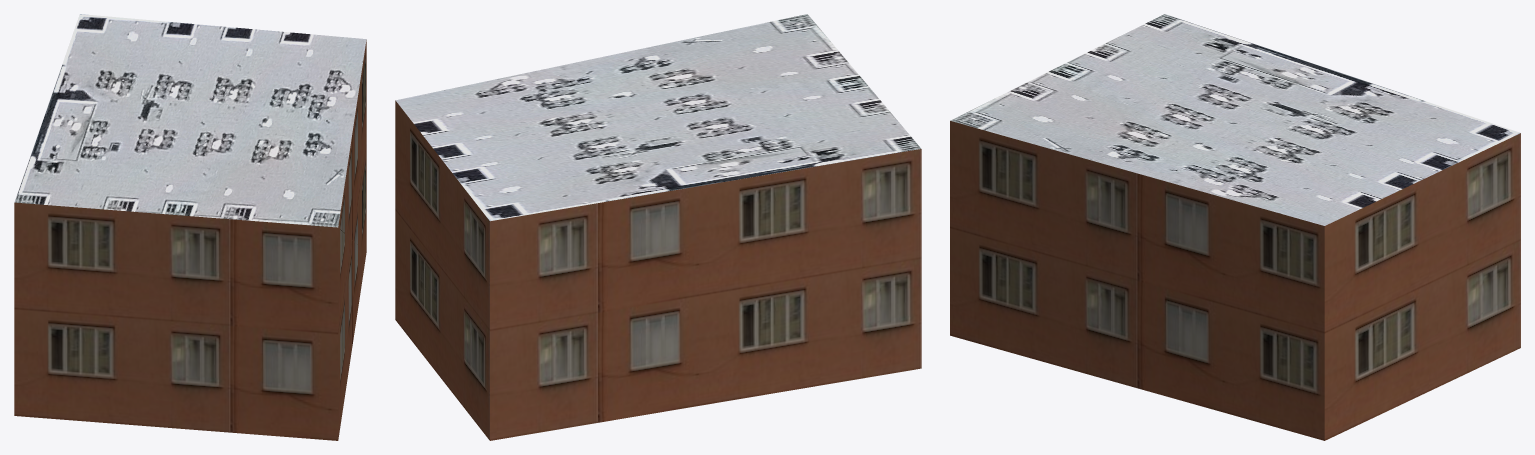
Rendered from ResTex__960.fbx.
3 views of the same model, side by side, from view 1: azimuth 30°, elevation 25°; view 2: azimuth 150°, elevation 25°; view 3: azimuth 270°, elevation 25° (orthographic). The views are drawn at different scales.
Visible parts, largest first — view 1: CityEngineMaterial_20_m, CityEngineMaterial_2_m; view 2: CityEngineMaterial_20_m, CityEngineMaterial_2_m; view 3: CityEngineMaterial_20_m, CityEngineMaterial_2_m.
Part boxes in pixels (box(x1,y1,x2,y2)): CityEngineMaterial_20_m: box(14, 40, 366, 440); CityEngineMaterial_2_m: box(14, 14, 366, 227); CityEngineMaterial_20_m: box(395, 100, 921, 440); CityEngineMaterial_2_m: box(396, 14, 921, 221); CityEngineMaterial_20_m: box(950, 121, 1520, 440); CityEngineMaterial_2_m: box(950, 14, 1520, 225).
Bounding box in the file's own units: 12.7 × 6 × 14.45.
2 materials, 2 textured.
